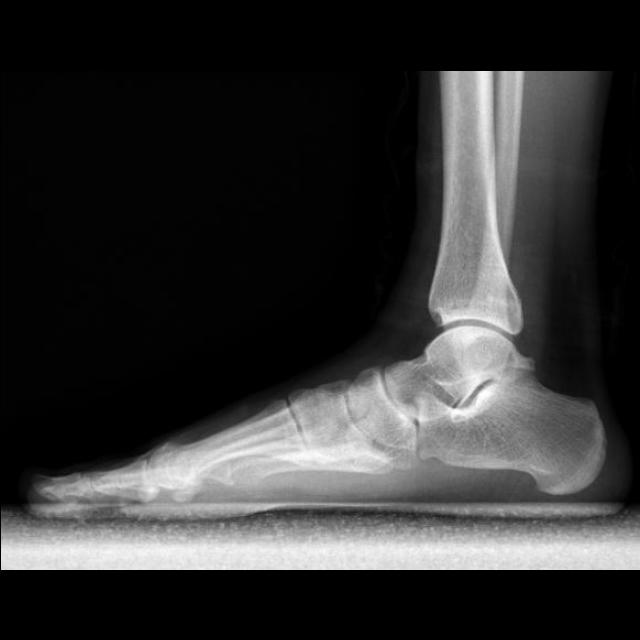a: (419, 366, 605, 493)
b: (351, 364, 417, 448)
c: (152, 400, 308, 484)
